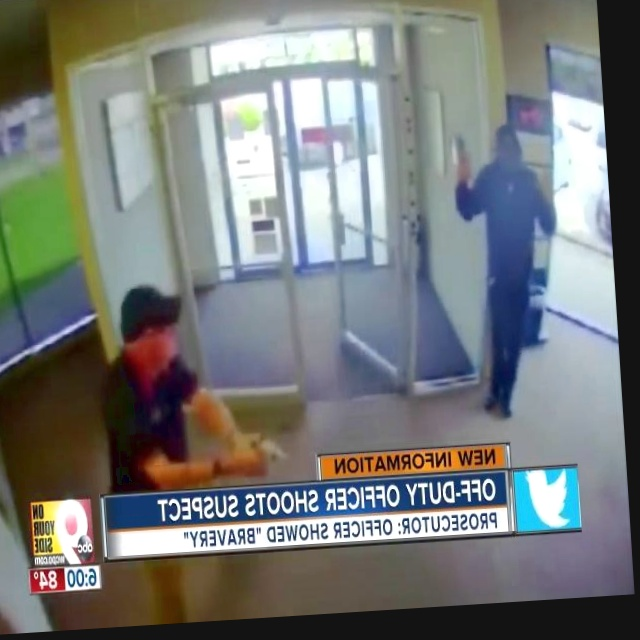gun: (232, 424, 294, 469)
